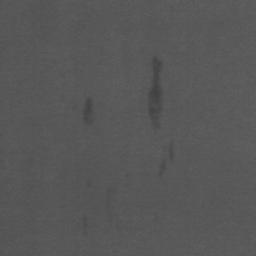Iron scale compression: (149, 57, 164, 133), (84, 98, 94, 127), (168, 136, 174, 161), (159, 159, 167, 177)
